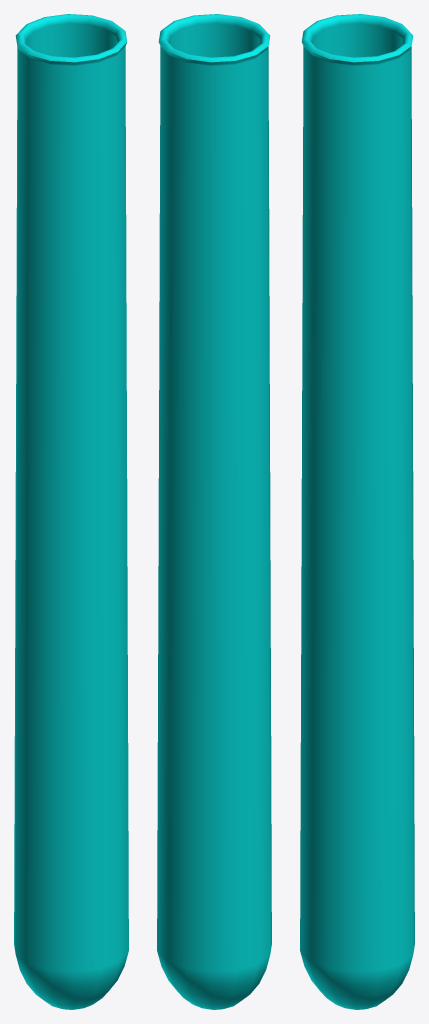
The picture shows the model from 3 angles, left to right: view 1: azimuth 30°, elevation 25°; view 2: azimuth 150°, elevation 25°; view 3: azimuth 330°, elevation 25°; orthographic projection.
Visible parts, largest first — view 1: Test_tube5; view 2: Test_tube5; view 3: Test_tube5.
Part boxes in pixels (left/top/right/bottom): Test_tube5: left=14, top=14, right=128, bottom=1009; Test_tube5: left=157, top=14, right=271, bottom=1009; Test_tube5: left=300, top=14, right=414, bottom=1009.
Size of what is drawn, in the model's own units: 1.6 by 15 by 1.6.
